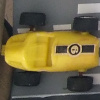amarillo_este: (1, 13, 99, 92)
